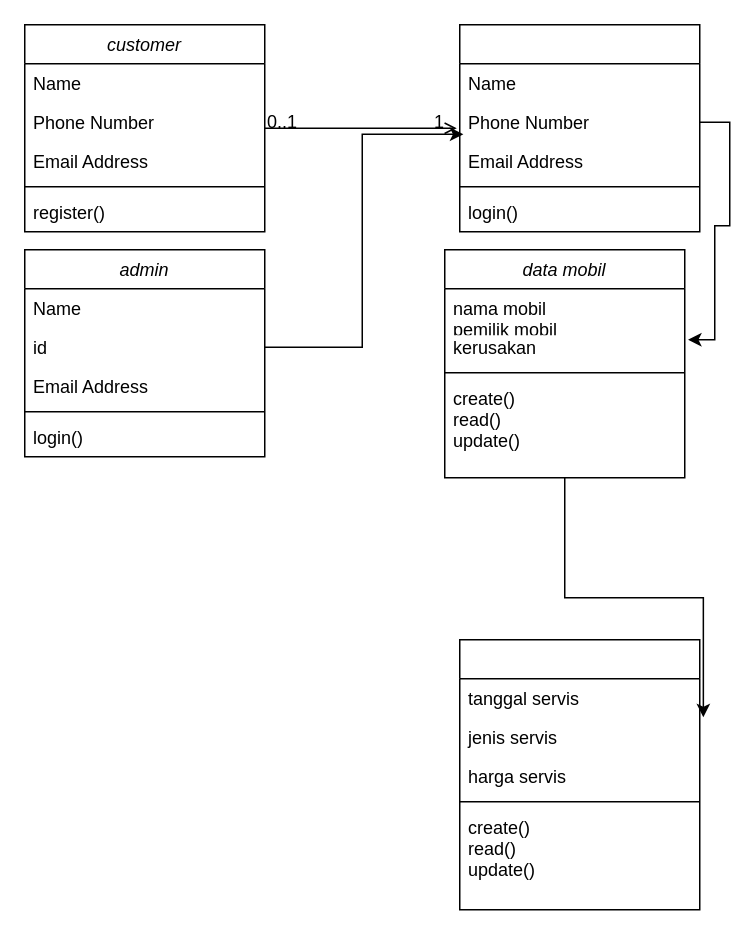
The diagram is 755 pixels wide and 935 high, and some of its shapes have lost their labels. The shapes that lost their labels are listed below. From the top down, each one's box as (x1, y1, x2, y2) in pixels, then its label:
(458, 23, 700, 232): login_user
(458, 638, 700, 910): booking_service
